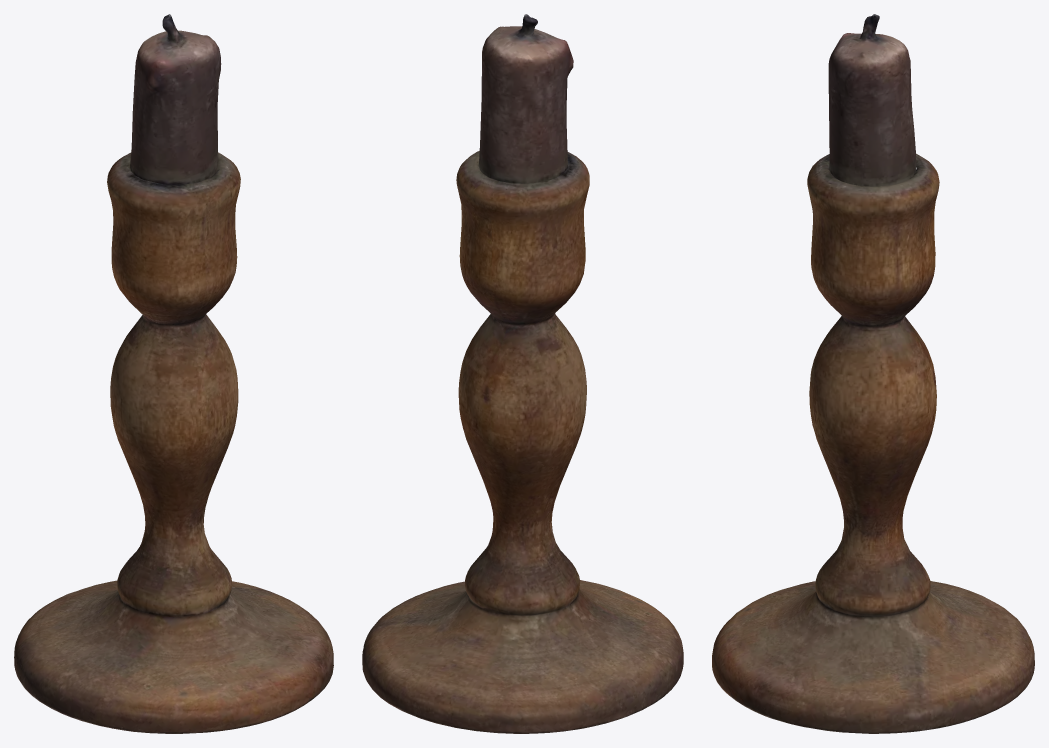
Rendered from wooden_candlestick.glb.
3 renders of one model, left to right at view 1: azimuth 30°, elevation 25°; view 2: azimuth 150°, elevation 25°; view 3: azimuth 270°, elevation 25°, orthographic.
Parts seen in each view (by area): view 1: wooden_candlestick; view 2: wooden_candlestick; view 3: wooden_candlestick.
Part boxes in pixels (box(x1,y1,x2,y2)): wooden_candlestick: box(14, 14, 333, 733); wooden_candlestick: box(362, 14, 683, 733); wooden_candlestick: box(712, 14, 1034, 733).
Bounding box in the file's own units: 0.0972 × 0.2196 × 0.0986.
1 material, 1 textured.
